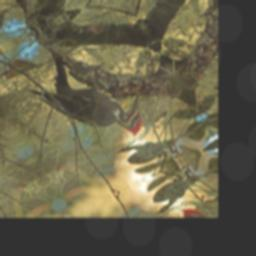Woodpecker: (24, 47, 157, 166)
